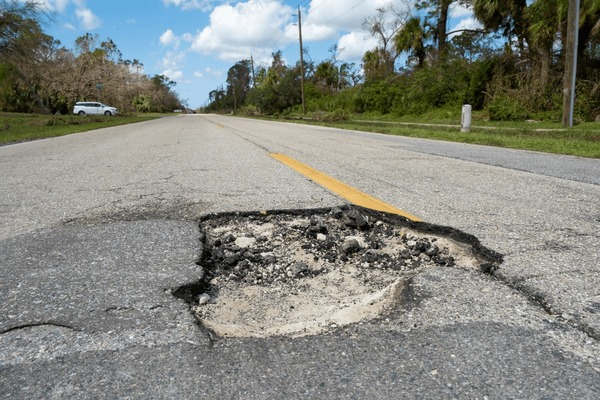Car: (72, 99, 125, 122)
Hole_in_the_road: (163, 198, 527, 360)
